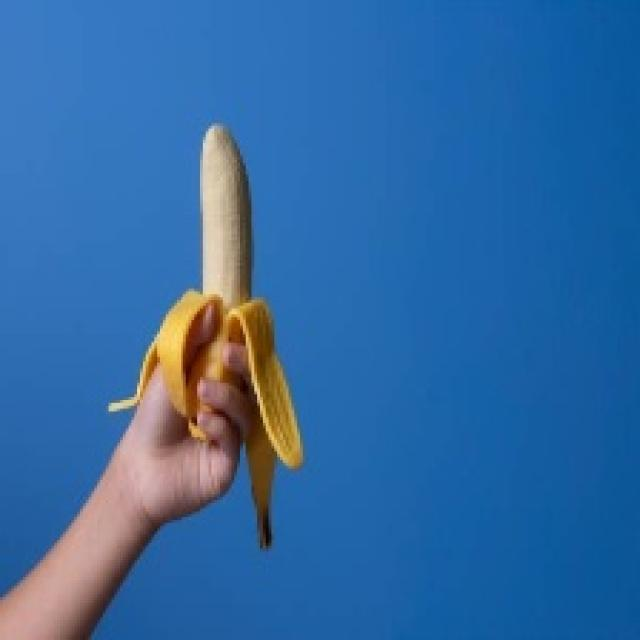Banana: (106, 120, 303, 549)
